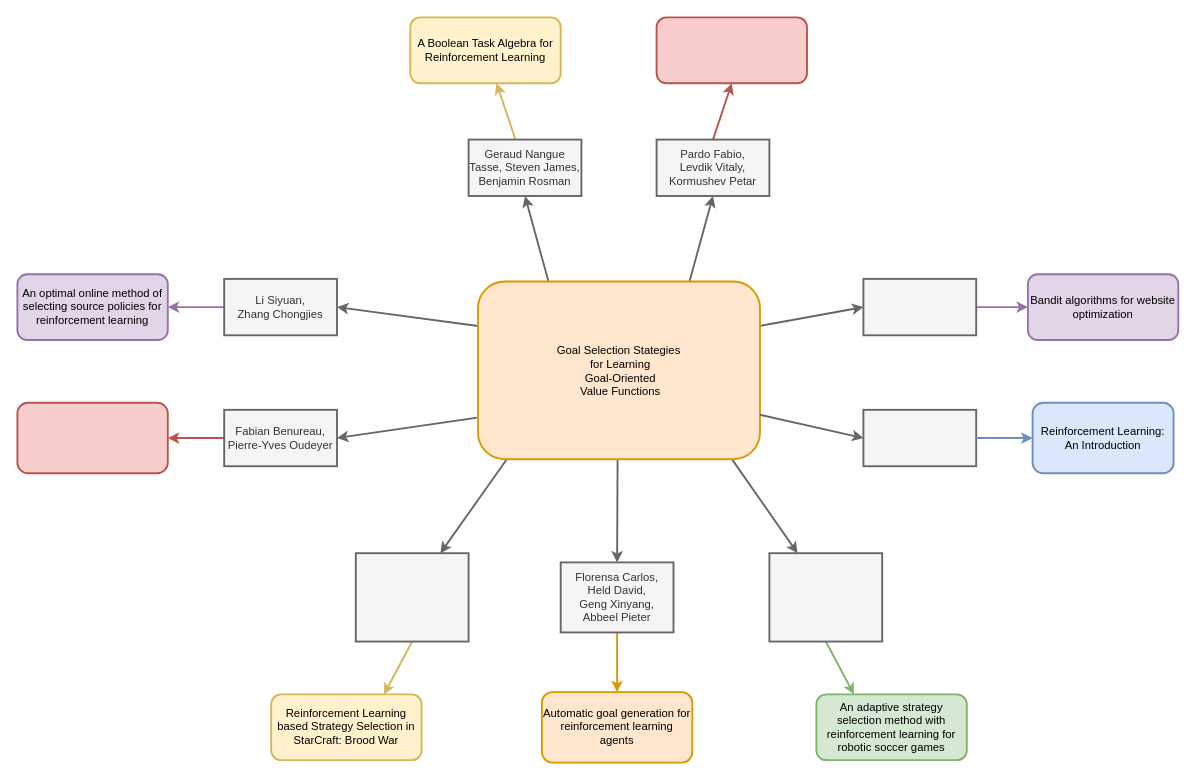
Image size: 1195x779. Some labels were removed from this diagram. Each missing label, with the centre of its shape:
"Andrew G. Barto, Richart S. Sutton" belongs at (919,437).
"Diversity-Driven Selection of Exploration Stategies in Multi-Armed Bandits" belongs at (92,437).
"Q-map: A convolutional approach for goal-oriented reinforcement learning" belongs at (731,50).
"Shi Haobin, Lin Zhiqiang, Hwang Kao-Shin, Yang Shike, Chen Jialin" belongs at (825,597).
"White John" belongs at (919,306).
"Zhang Taidong, Li Xianze, Li Xudong, Liu Guanghui, Tian Miao" belongs at (411,597).
